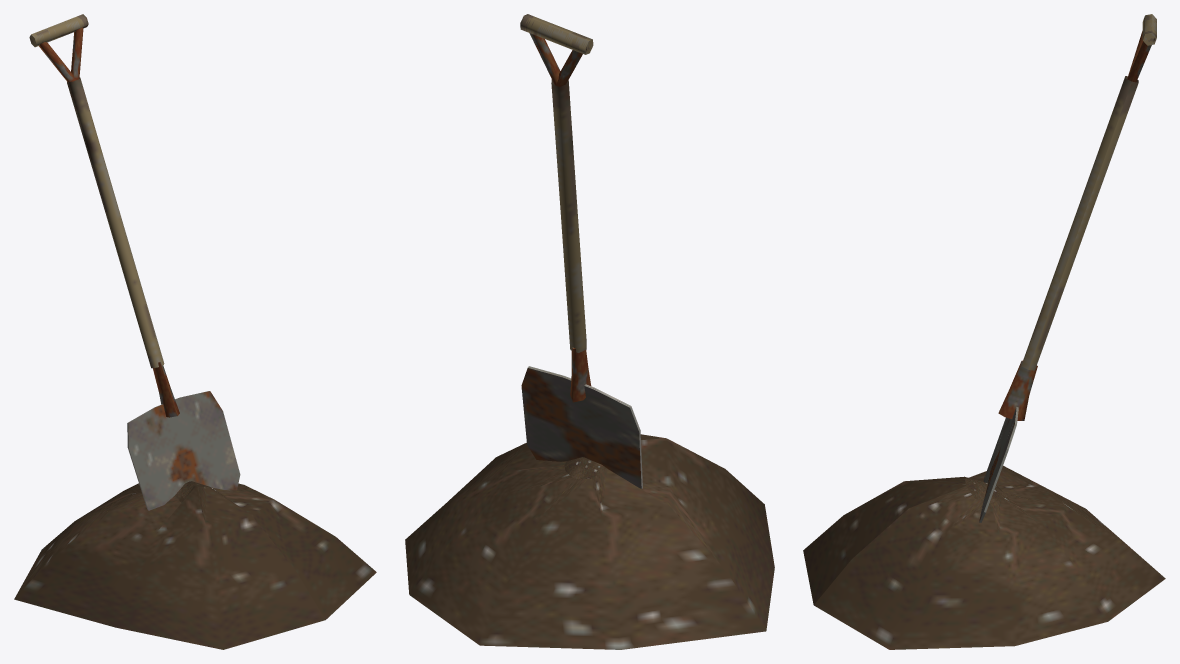
Rendered from shovel.obj.
The picture shows the model from 3 angles, left to right: view 1: azimuth 30°, elevation 25°; view 2: azimuth 150°, elevation 25°; view 3: azimuth 270°, elevation 25°; orthographic projection. The views are drawn at different scales.
Parts seen in each view (by area): view 1: shovel; view 2: shovel; view 3: shovel.
Part boxes in pixels (<box>): shovel: <box>14,14,376,649</box>; shovel: <box>405,14,774,649</box>; shovel: <box>803,14,1165,649</box>.
Bounding box in the file's own units: 0.7968 × 1.29 × 0.7966.
Materials: 1 (1 with a texture image).
